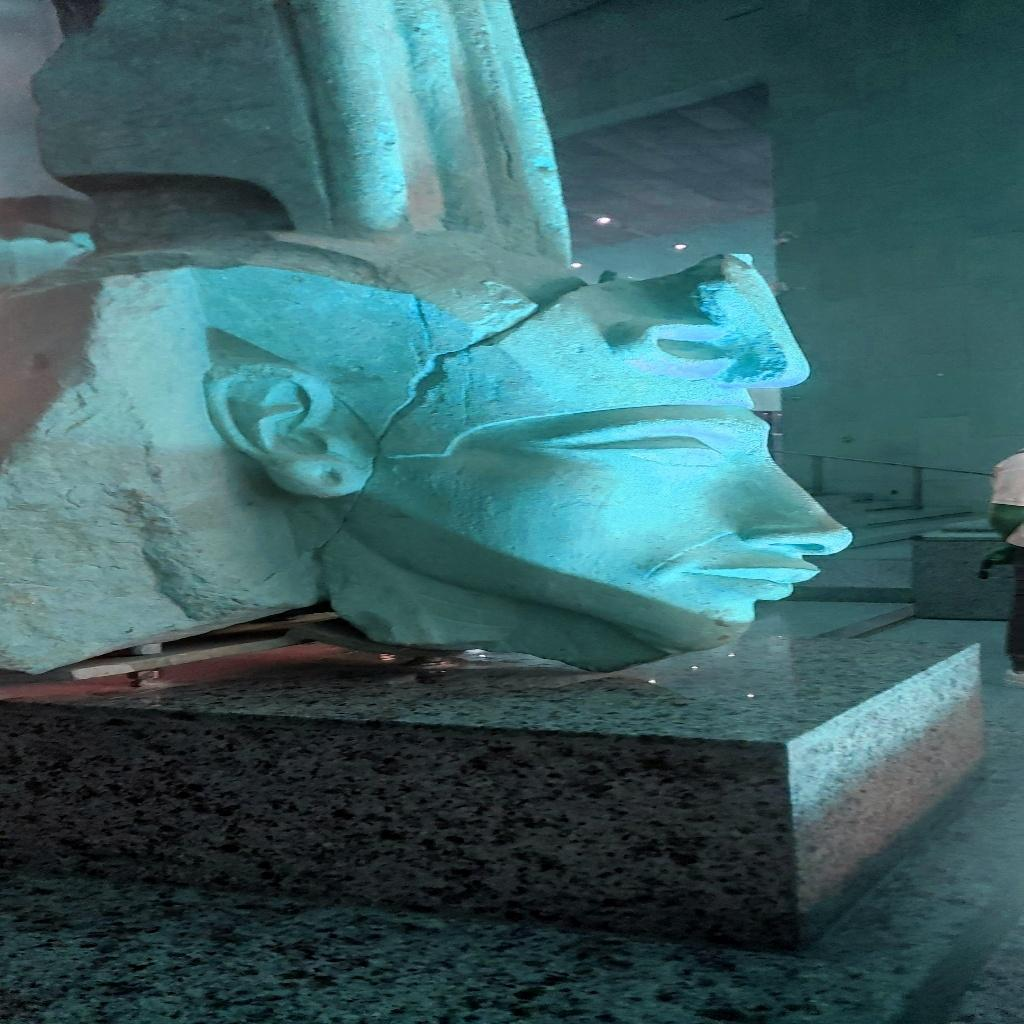Statue Head of Akhenaten: (0, 226, 853, 702)
